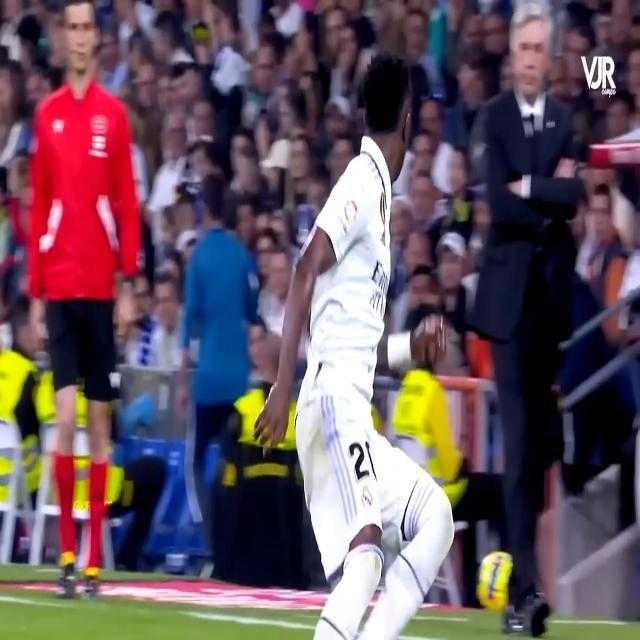player: (265, 47, 497, 640)
referee: (23, 0, 178, 585)
